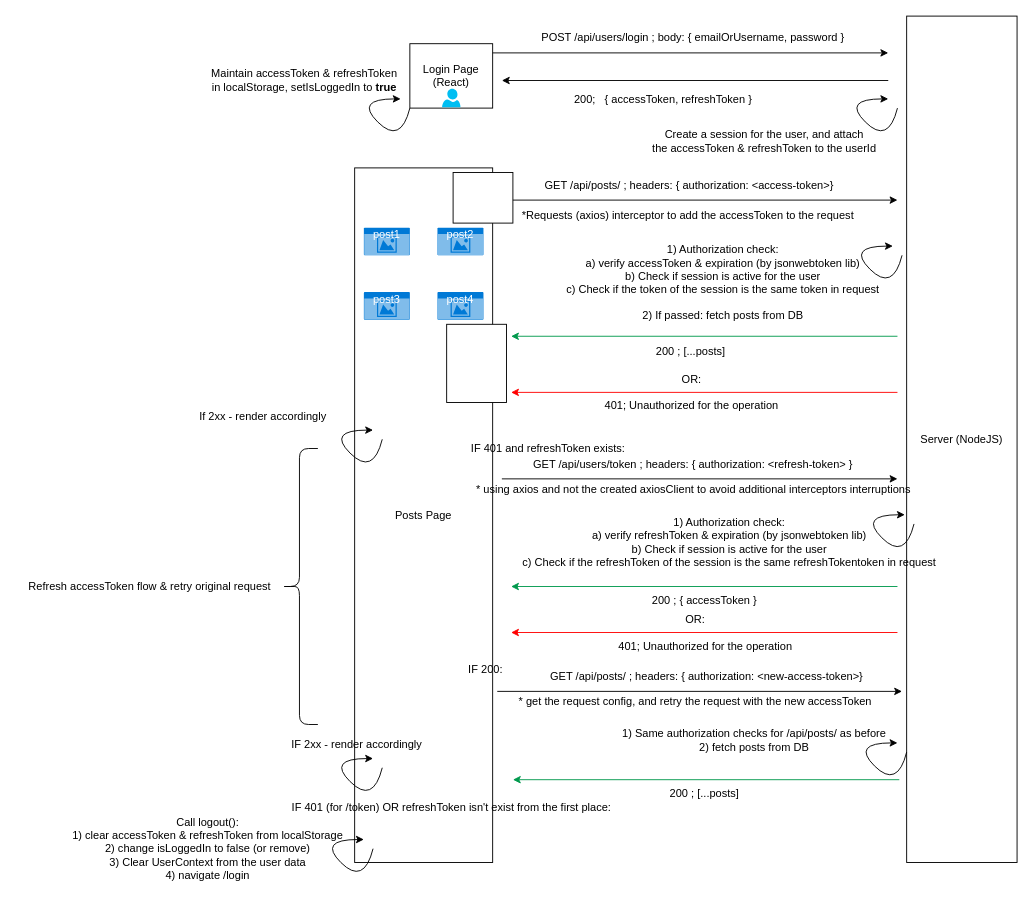
Some shapes in this 1033 by 906 pixel diagram are drawn without their labels. Each missing label, with the centre of its shape:
"request interceptor" belongs at (482,197).
"response interceptor" belongs at (476,362).
